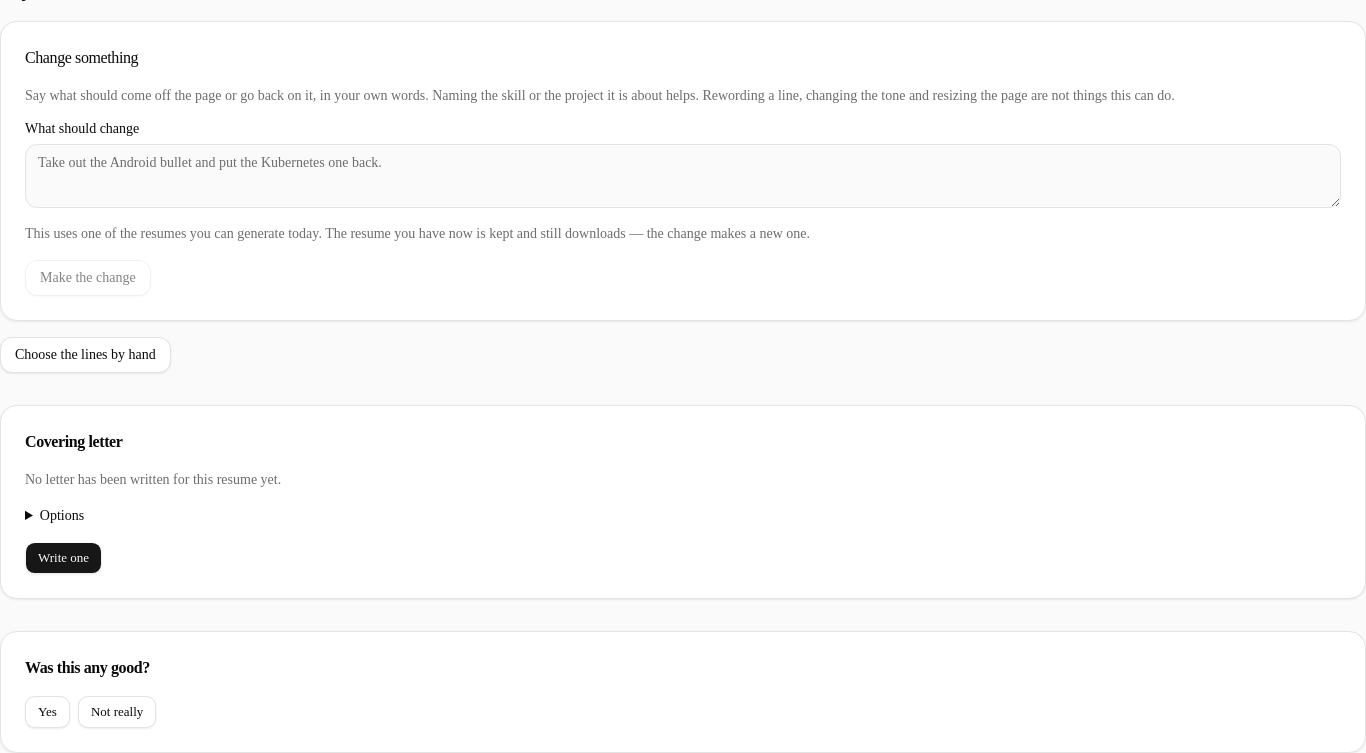
Test case: the covering letter › writes one on request, and keeps the blank lines it came with
This screenshot has width=1366, height=753.
(page scrolled)
Click the button "Write one" at (64, 558), box [25,542,102,574]
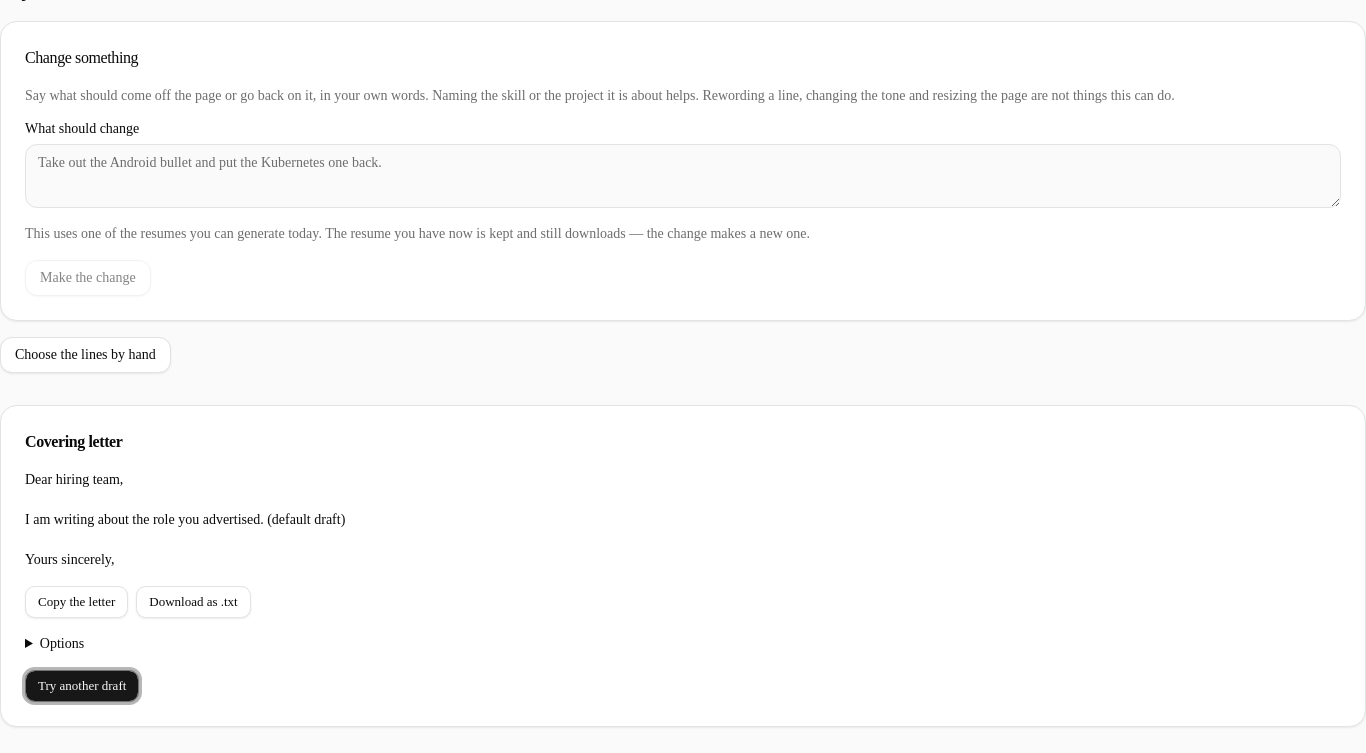
Now the text with test id "cover-letter" shows "Dear hiring team", box [25,472,345,567]
